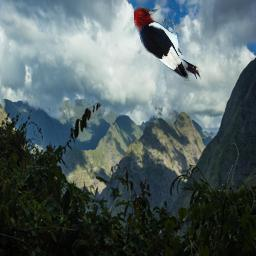Woodpecker: (134, 7, 203, 81)
